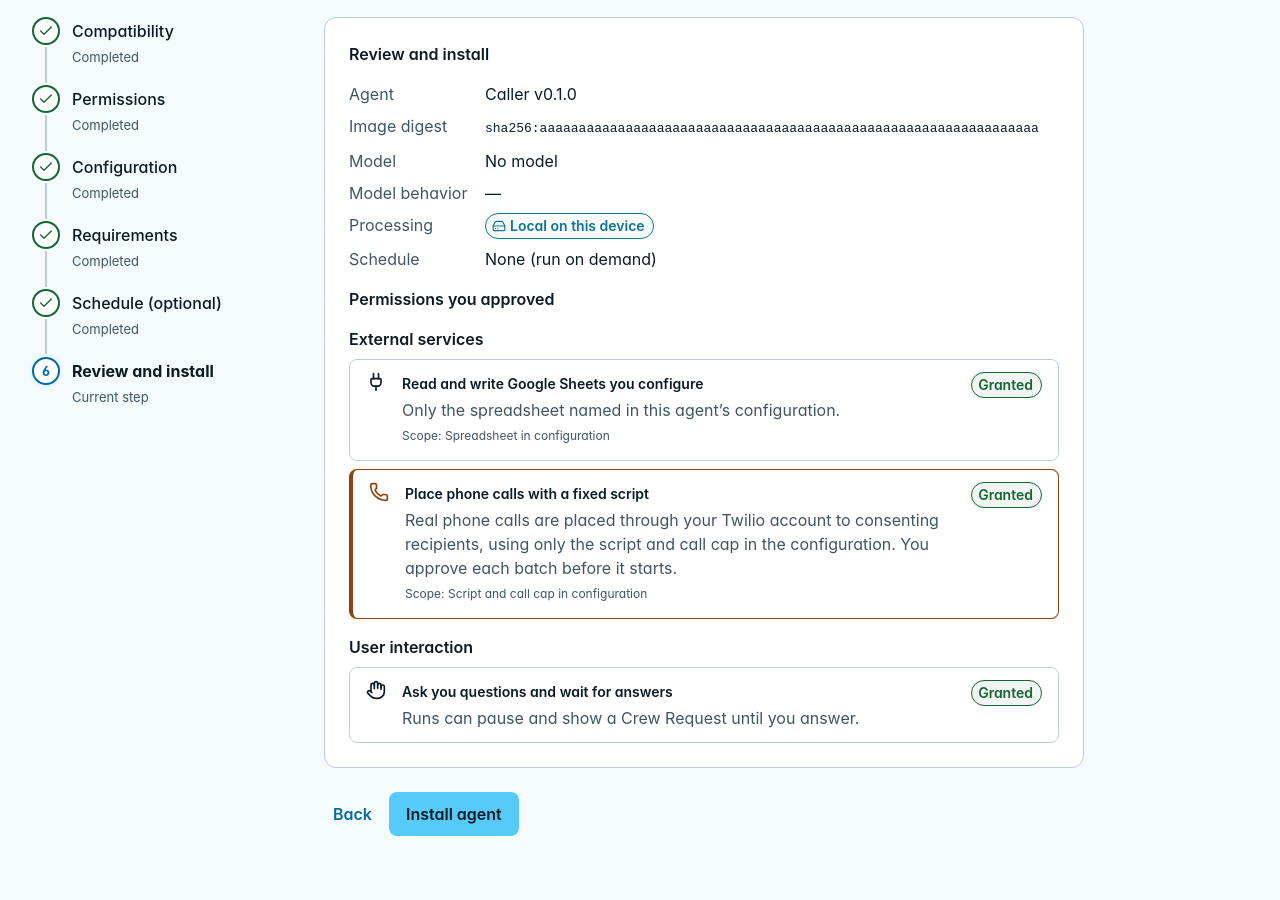
Test case: Run now on the install wizard finish step › when the new installation is not ready, Run now is disabled and says why
(page scrolled)
Click the button "Install agent". click: [454, 814]
box: [389,792,519,836]
(page scrolled)
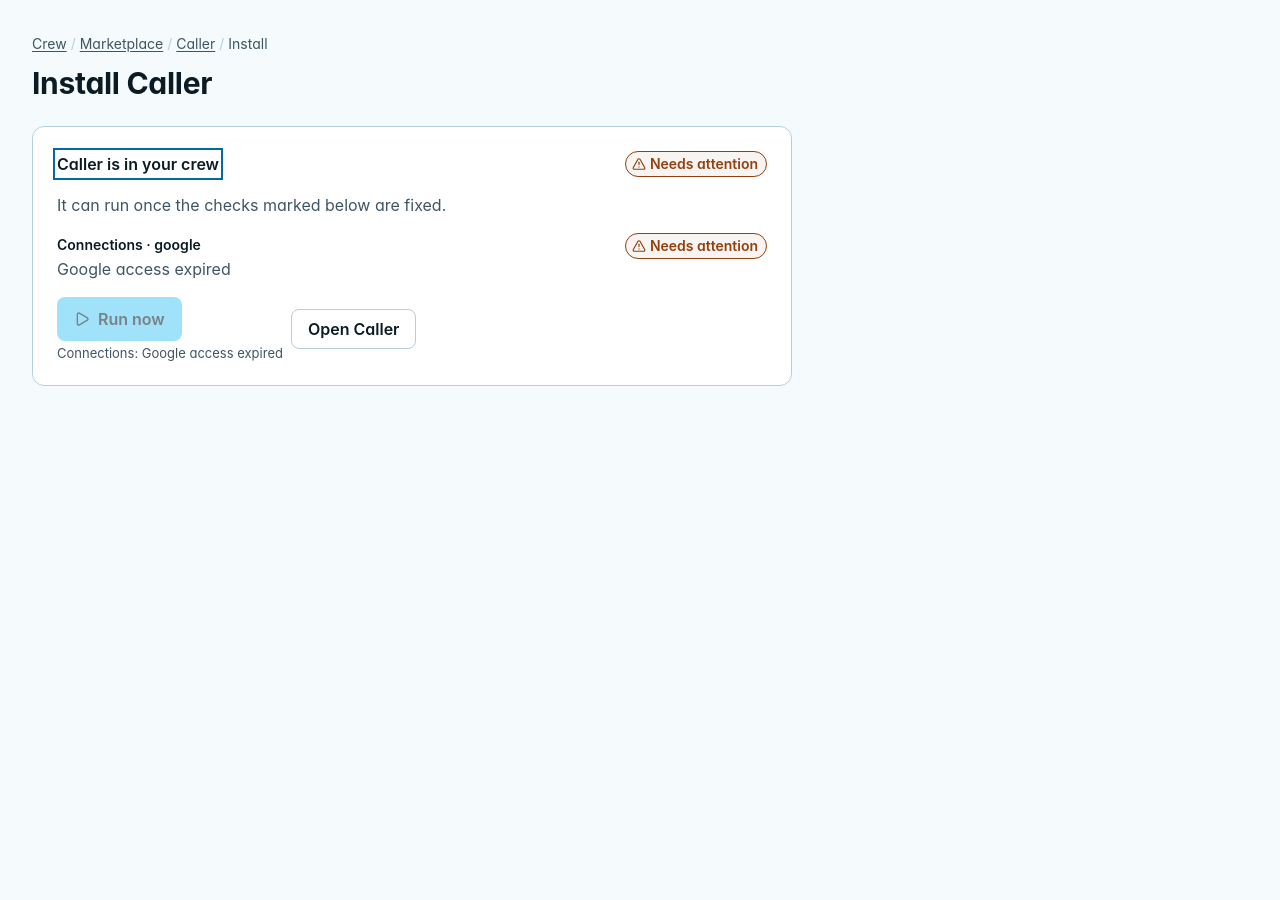
expect the heading "Caller is in your crew" is shown: met, box [57,152,219,176]
expect the button named "Run now Caller" is disabled: met, box [57,297,182,341]
expect the list named "Readiness" is shown: met, box [57,233,767,281]
